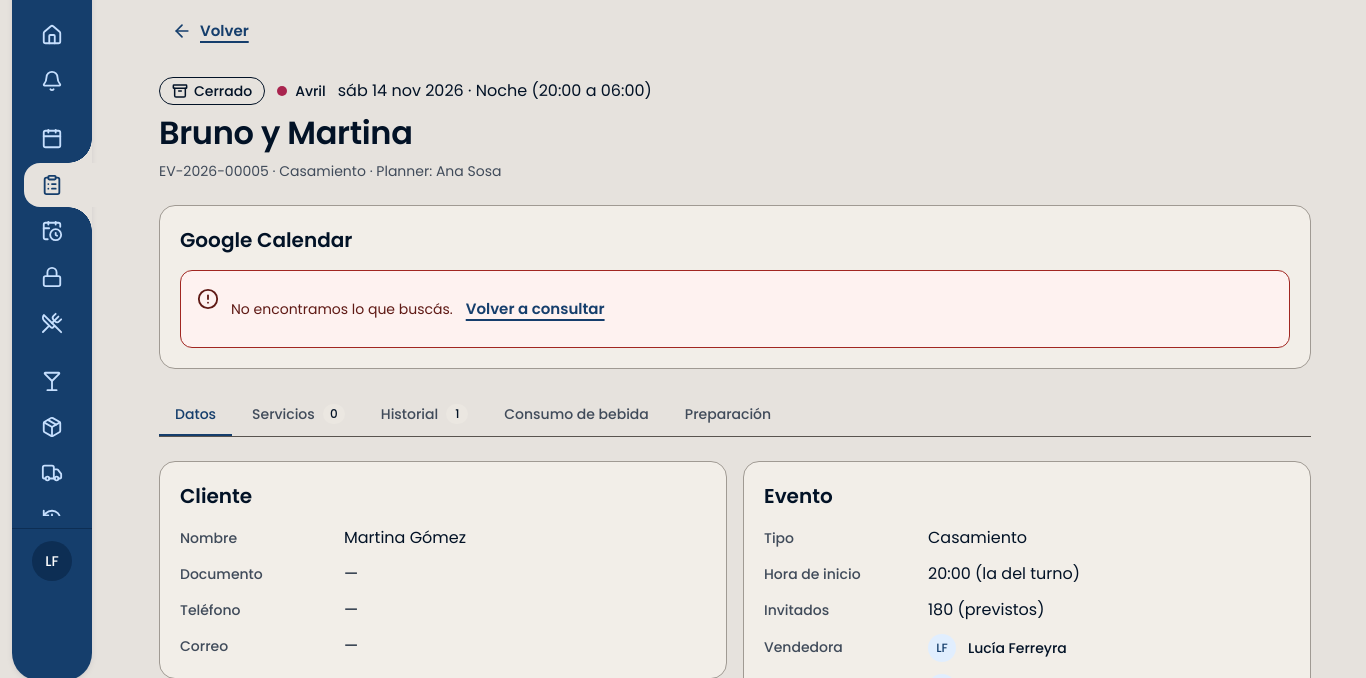
permite consultar desde la ficha a DIRECCION y solo hace GET
The image size is (1366, 678).
Click the tab "Consumo de bebida" at (576, 415), box [488,393,665,437]
(page scrolled)
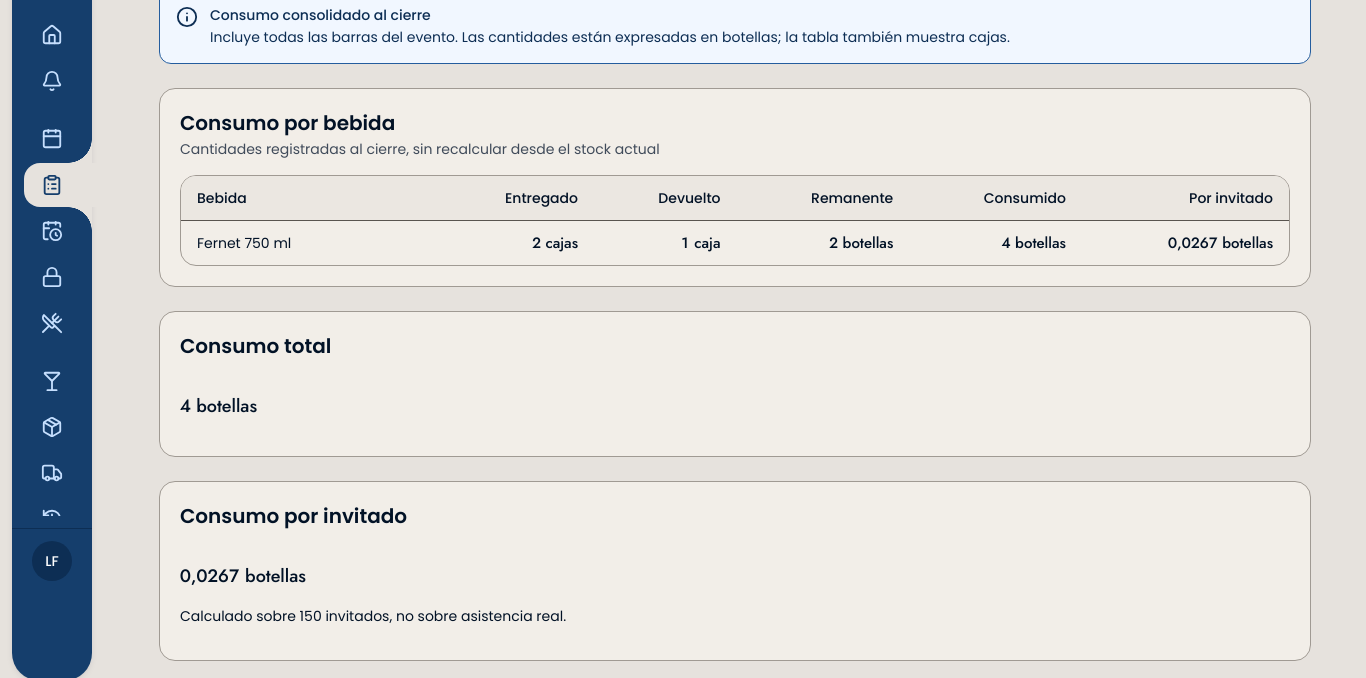
Now the text "2 cajas" is shown, box [435,221,594,265]
Now the text "1 caja" is shown, box [594,221,736,265]
Now the text "2 botellas" is shown, box [736,221,909,265]
